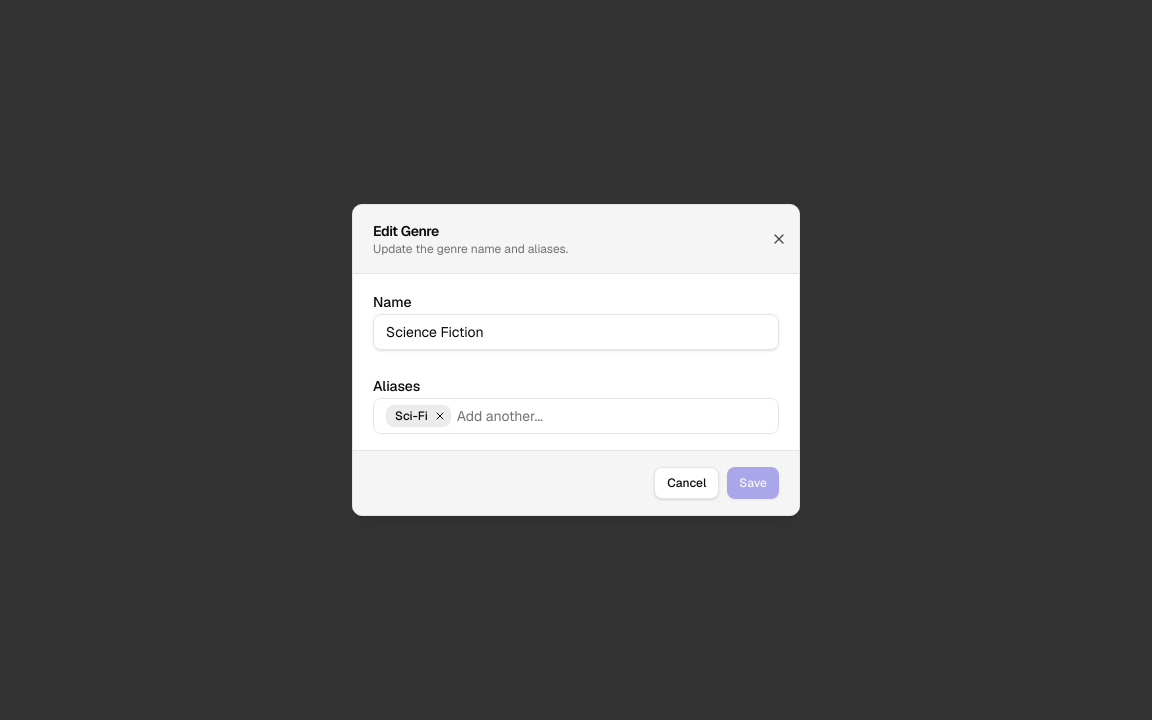
Scenario: MetadataEditDialog › alias management › should detect alias changes for hasChanges/save button
Expected: the text "Sci-Fi" is shown, [395, 408, 428, 424]
Expected: the button "Save" is disabled, [727, 467, 779, 499]
Click the button named "remove alias" at (440, 416), box [434, 410, 446, 422]
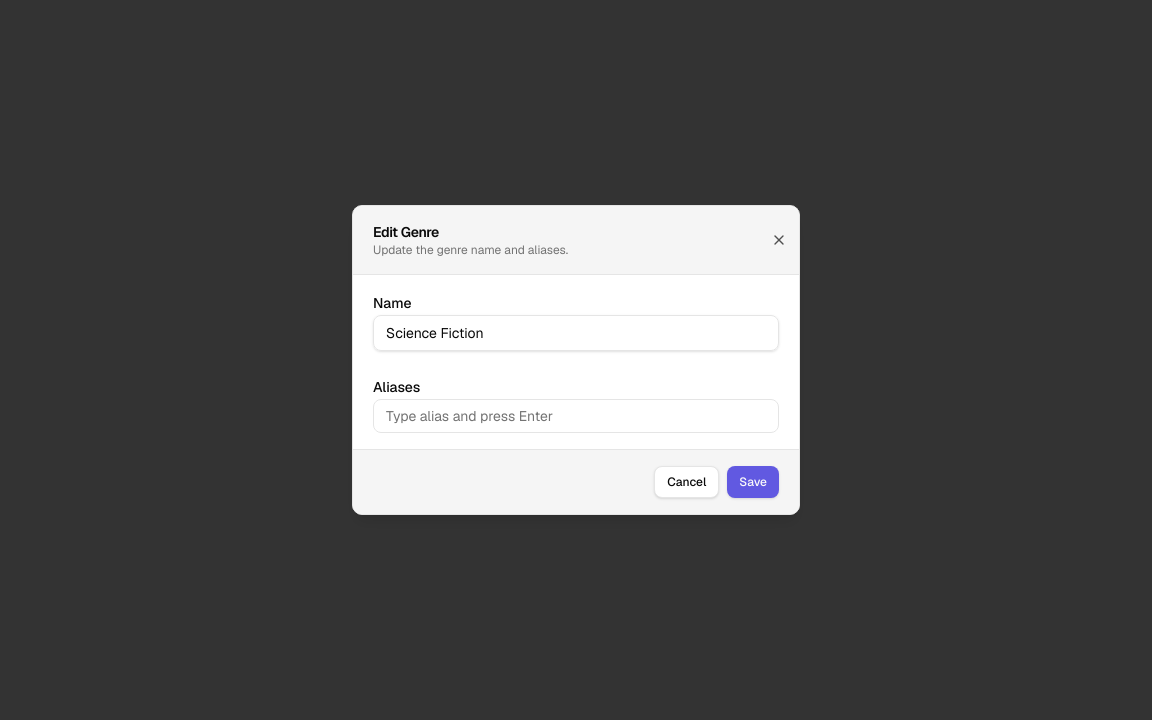
Result: the button "Save" is enabled at [727, 466, 779, 498]
